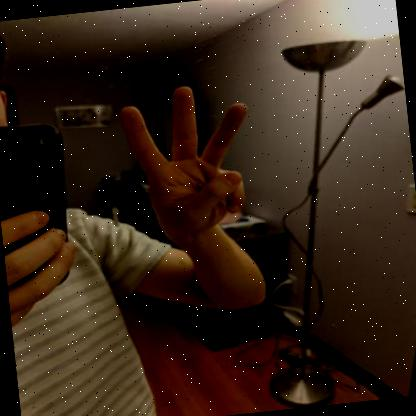W: (120, 85, 247, 243)
